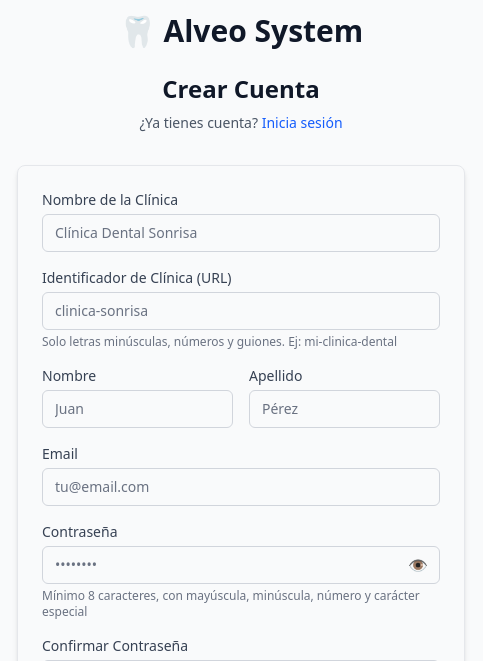
RegisterPage › slug auto-generation › should normalize diacritics in auto-generated slug
Type "Clínica Señor" into the field labelled "Nombre de la Clínica". click: (241, 233)
box: [42,214,440,252]
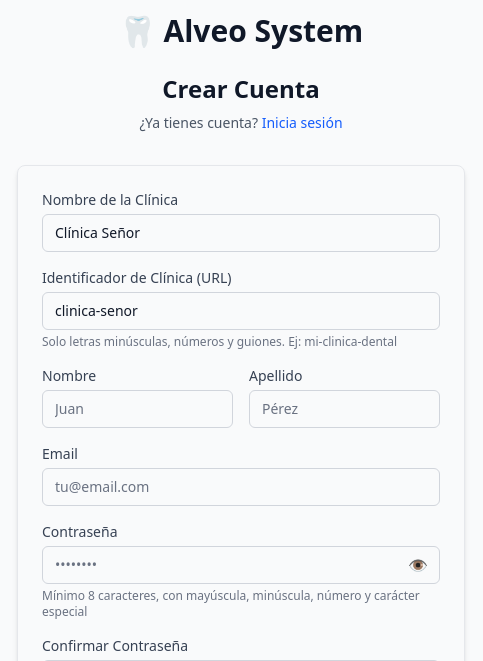
Check: the field labelled "Identificador de Clínica (URL)" holds "clinica-senor", box [42,292,440,330]
